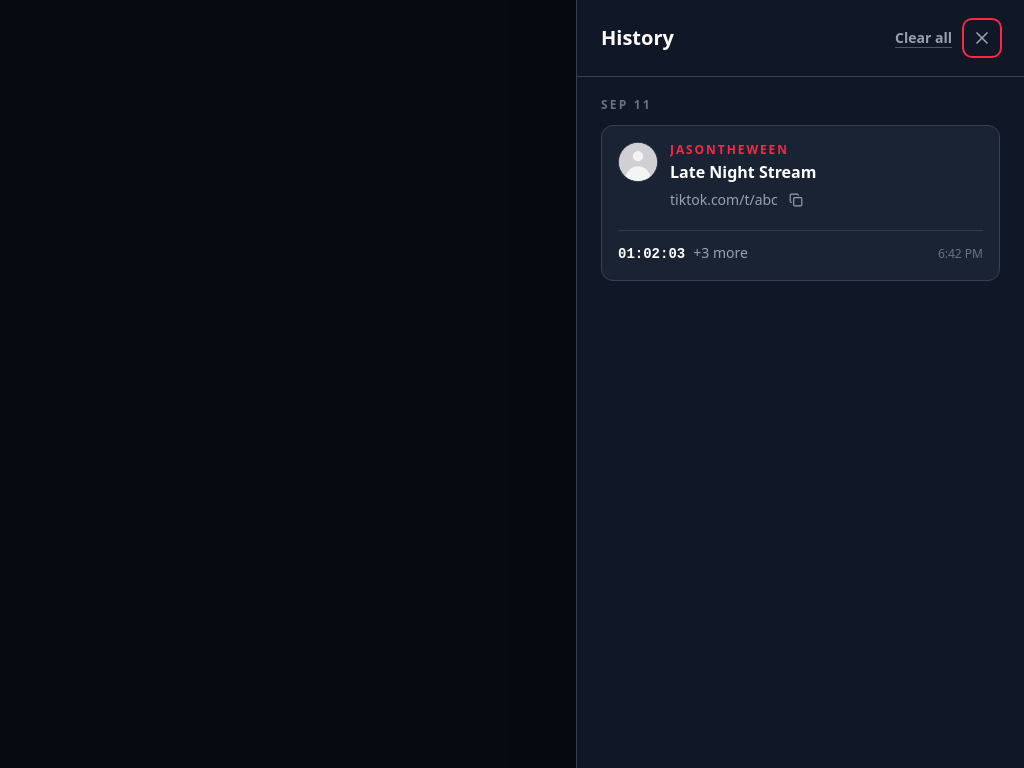
Test: HistoryDrawer › copies the original TikTok URL
The image size is (1024, 768).
What coordinates should you click on to do the following:
click the button named "Copy clip link"
I would click on:
 (796, 200)
Its box is [782, 186, 810, 214].
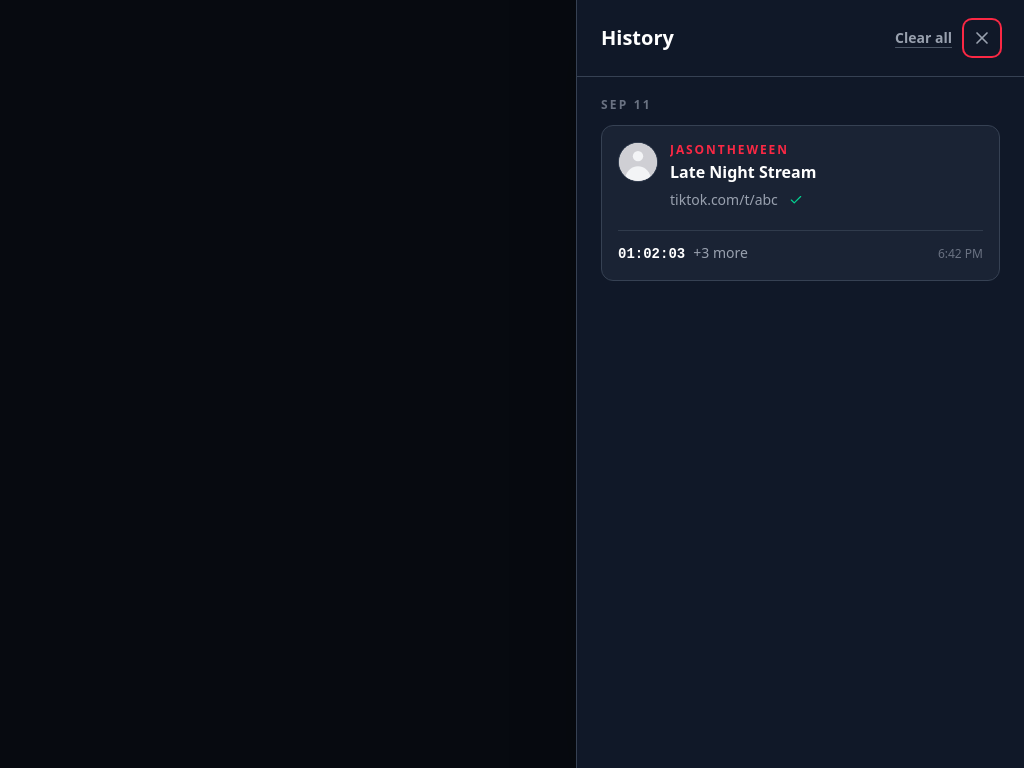
Expected: the button named "Clip link copied" is shown, [782, 186, 810, 214]
